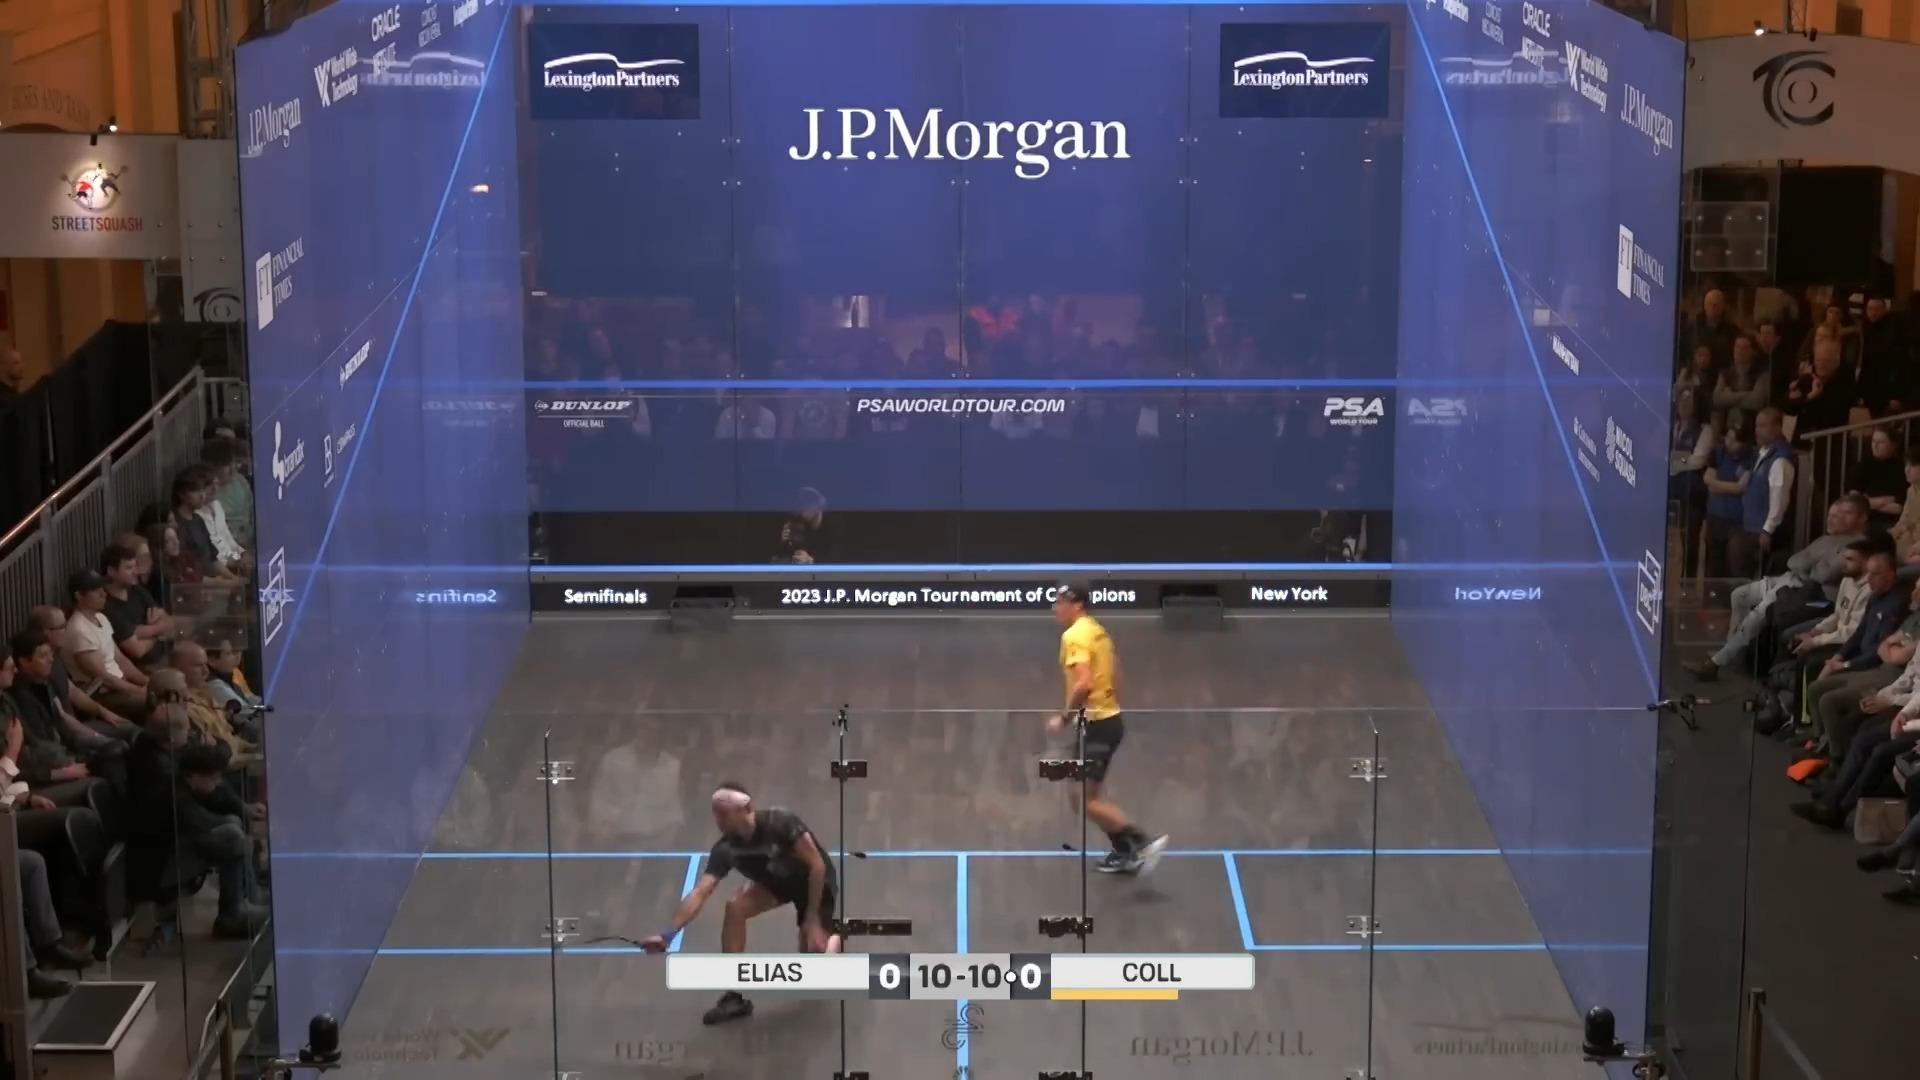Racket: (546, 901, 662, 965)
